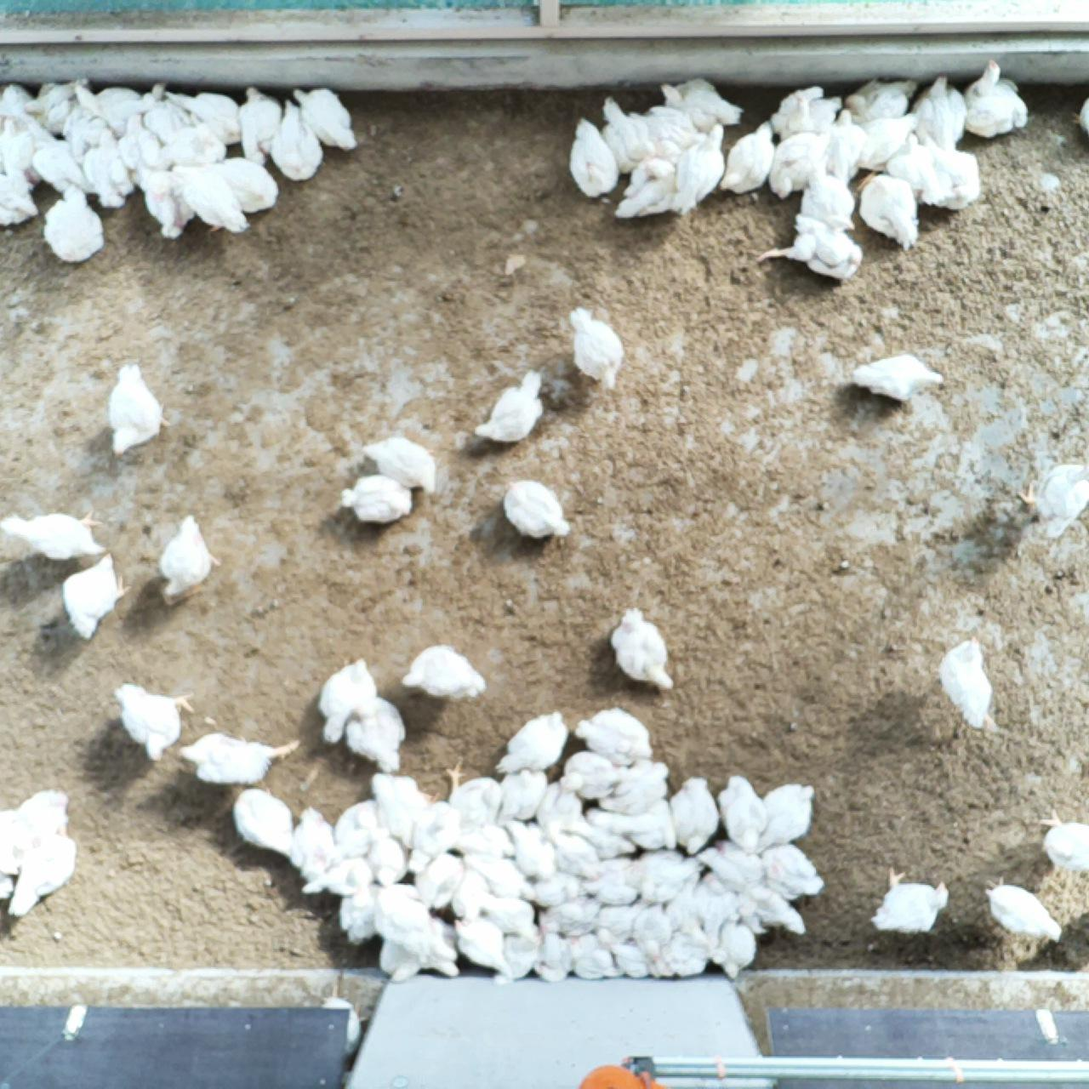chicken: (753, 210, 865, 285), (178, 724, 300, 790), (113, 678, 198, 767), (5, 829, 82, 923), (104, 361, 174, 462), (59, 551, 131, 647), (934, 631, 1001, 733), (979, 870, 1065, 948), (608, 602, 680, 695), (372, 882, 457, 959), (469, 366, 547, 449), (0, 506, 109, 564), (867, 865, 947, 942), (41, 177, 108, 267), (315, 655, 380, 747), (398, 641, 491, 705), (1018, 459, 1089, 542), (160, 512, 221, 607), (342, 693, 410, 778), (368, 768, 439, 849), (670, 122, 731, 215), (906, 67, 971, 154), (857, 168, 924, 252), (849, 351, 946, 409), (174, 162, 250, 236), (566, 304, 629, 392), (267, 98, 329, 187), (358, 432, 442, 497), (963, 58, 1033, 136), (133, 162, 198, 244), (493, 709, 571, 777), (571, 707, 658, 766), (228, 787, 298, 858), (717, 119, 776, 203), (612, 153, 680, 223), (501, 478, 574, 543), (459, 846, 539, 904), (566, 116, 621, 200), (290, 86, 361, 151), (767, 132, 830, 205), (587, 800, 678, 850), (83, 127, 137, 211), (338, 470, 416, 528), (658, 76, 745, 128), (667, 773, 720, 857), (758, 781, 818, 855), (451, 914, 517, 981), (601, 755, 671, 818), (630, 847, 706, 904), (167, 89, 242, 146), (444, 755, 501, 829), (760, 838, 826, 901), (236, 82, 284, 168), (407, 799, 462, 874), (716, 773, 766, 855), (24, 78, 96, 134), (14, 787, 73, 855), (891, 133, 947, 204), (379, 938, 460, 987), (698, 834, 766, 892), (599, 94, 648, 174), (559, 748, 628, 804), (29, 126, 87, 192), (844, 73, 923, 121), (544, 822, 606, 881), (502, 818, 558, 882), (636, 104, 706, 155), (329, 799, 385, 860), (825, 107, 870, 182), (122, 112, 166, 188), (1037, 809, 1089, 873), (743, 890, 811, 938), (934, 146, 982, 214), (413, 850, 469, 908), (290, 804, 333, 879), (859, 116, 920, 168), (697, 871, 740, 944), (537, 777, 586, 841), (161, 122, 232, 166), (339, 879, 383, 949), (582, 856, 644, 905), (299, 855, 371, 897), (768, 81, 828, 131), (499, 765, 549, 823), (481, 897, 543, 943), (570, 820, 639, 860), (61, 102, 112, 156), (657, 930, 712, 980), (714, 920, 760, 979), (452, 821, 516, 863), (528, 932, 575, 988), (0, 116, 37, 187), (493, 931, 539, 988), (139, 92, 190, 143), (543, 896, 602, 940), (568, 933, 620, 982), (633, 902, 674, 963), (787, 93, 845, 136), (665, 874, 705, 934), (366, 834, 412, 886), (614, 937, 665, 983), (74, 80, 141, 115), (0, 174, 40, 229), (593, 901, 639, 948), (449, 869, 492, 919), (0, 807, 27, 876), (0, 83, 43, 126), (532, 876, 588, 907)
